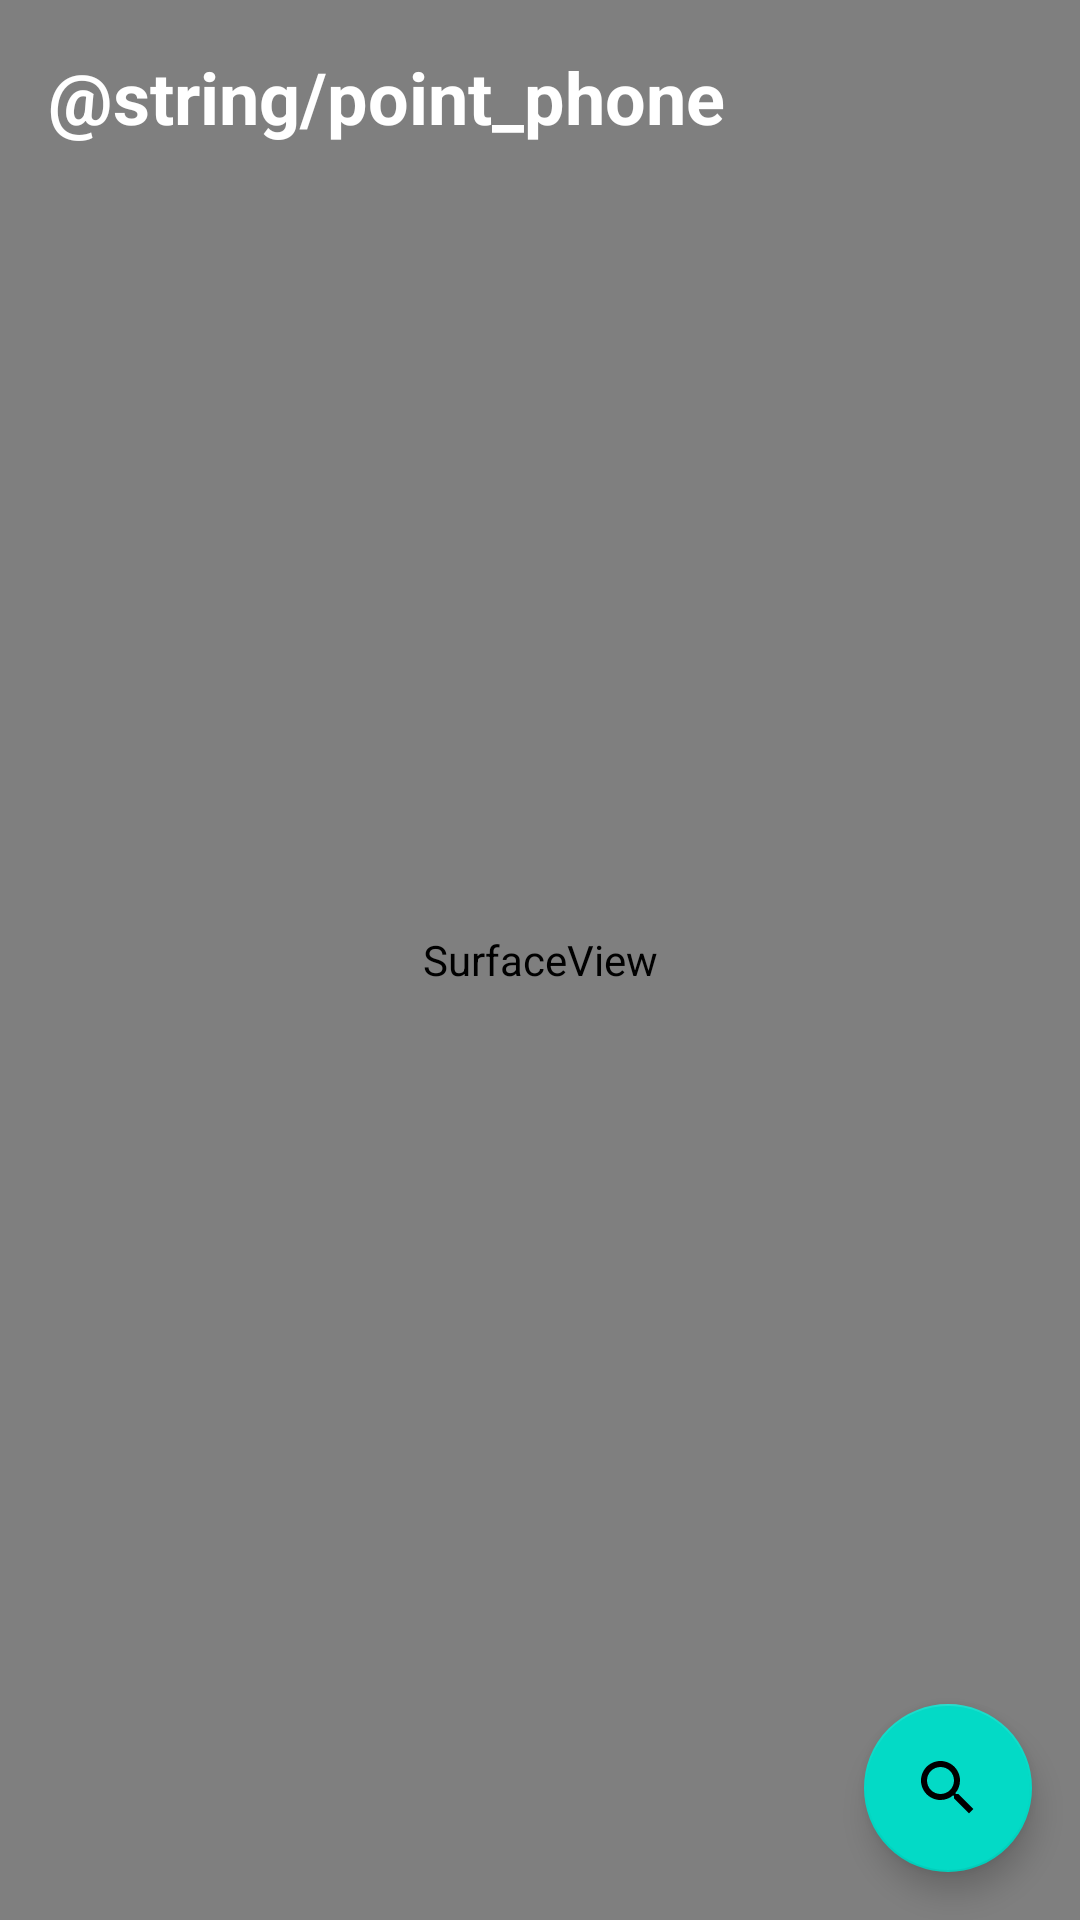

Icons on this 1080px x 1920px Android screen, each with its box as (x1, y1, x2, y2):
search: (864, 1704, 1032, 1872)
